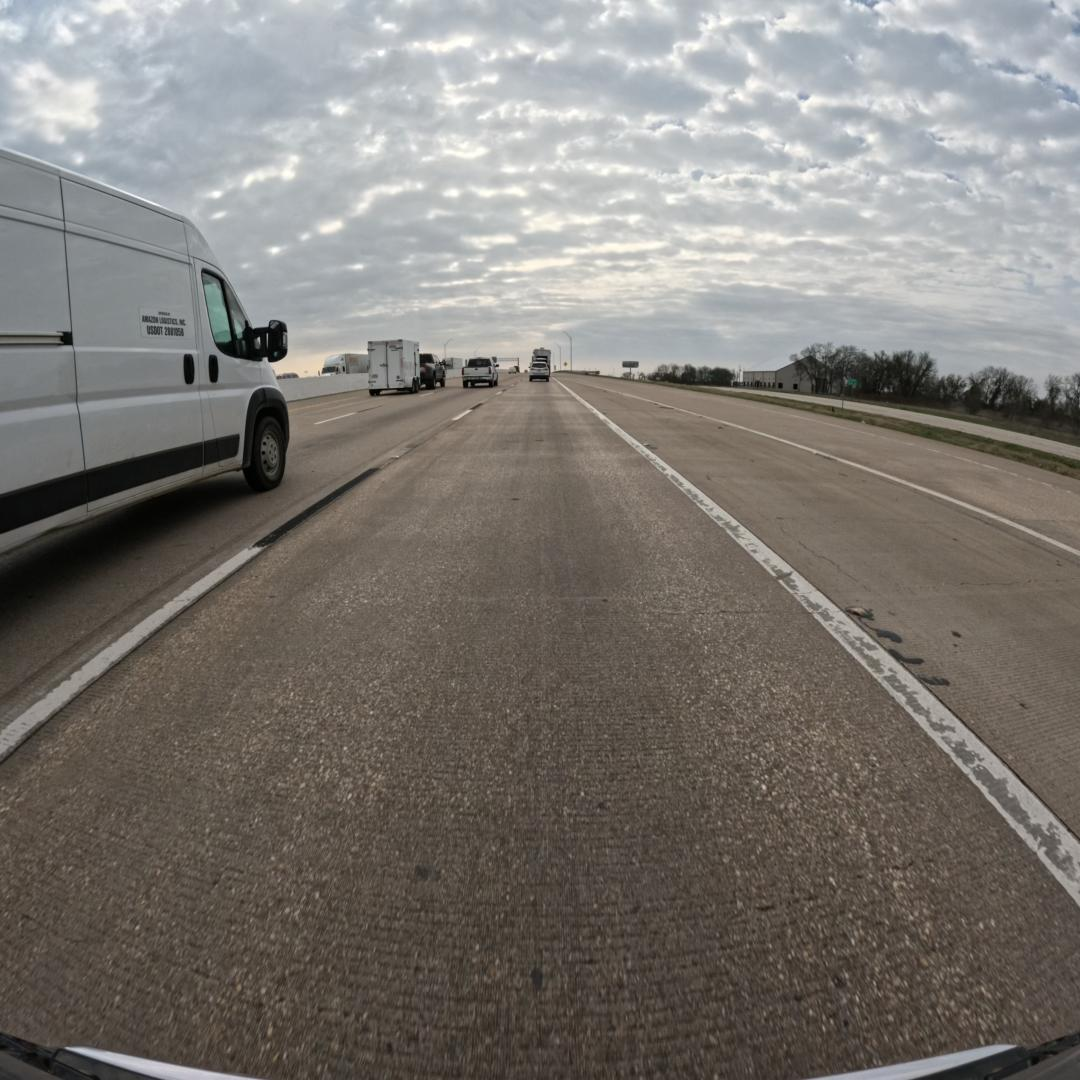lane0: (0, 382, 1080, 1077)
lane1: (0, 390, 497, 760)
